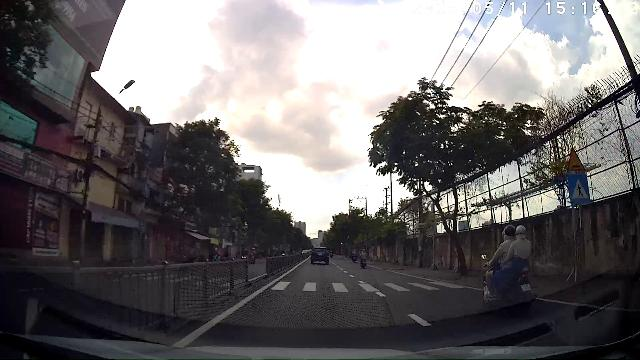423a-duong-nguoi-di-bo-sang-ngang-1: (567, 174, 590, 203)
